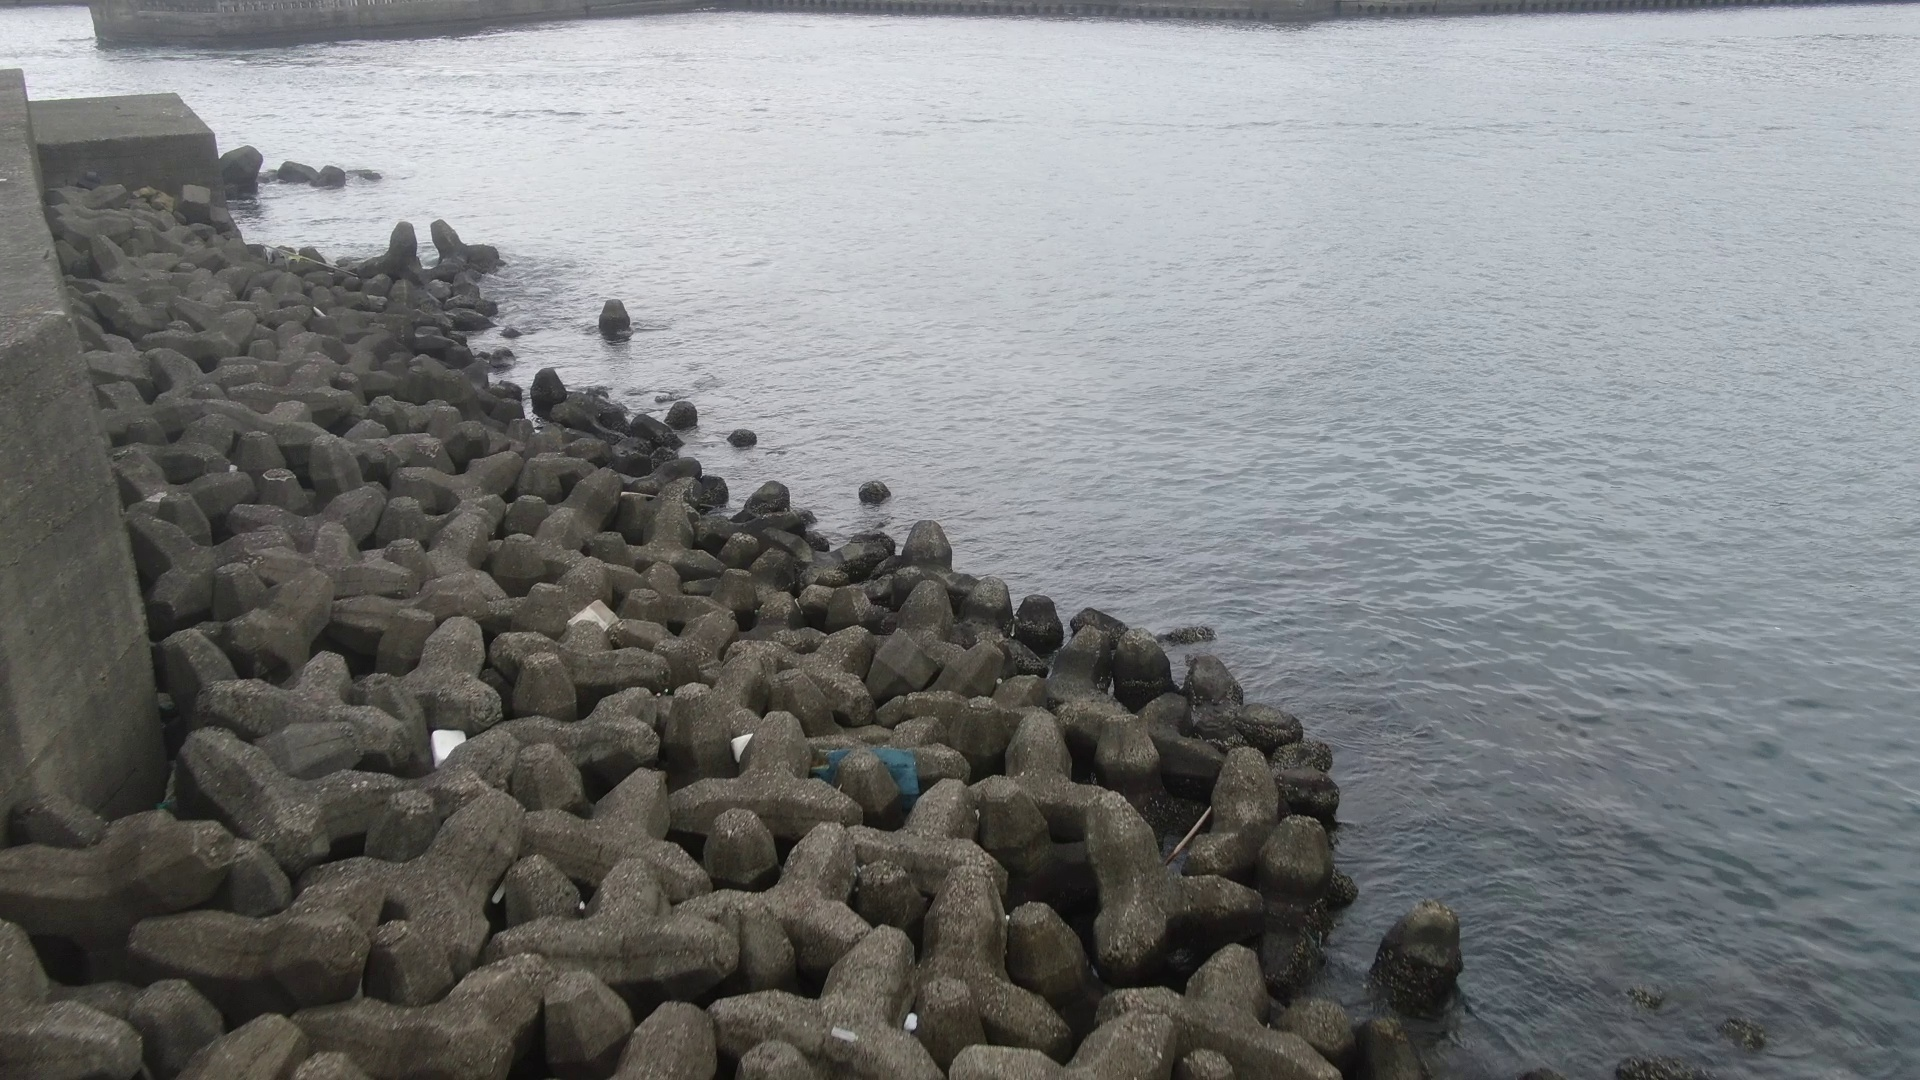garbage: (814, 735, 928, 796), (418, 717, 475, 775), (566, 597, 628, 638), (727, 729, 766, 765)
